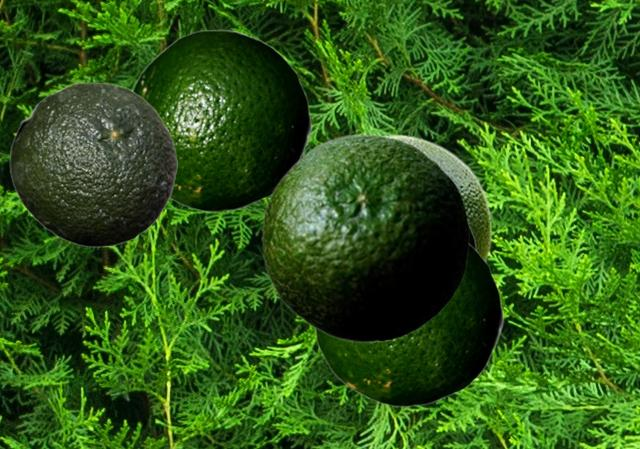calamansi: (261, 133, 468, 342), (130, 29, 311, 211), (313, 240, 503, 406), (9, 82, 177, 246), (386, 134, 492, 261)
